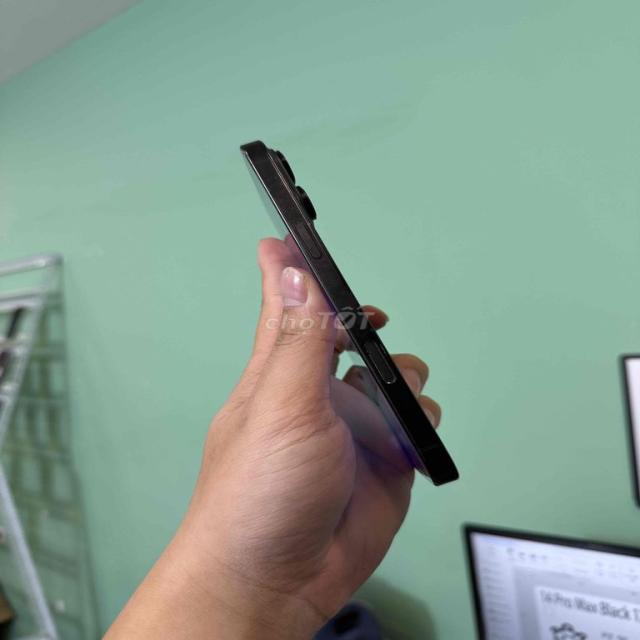gen_16: (241, 141, 458, 485)
